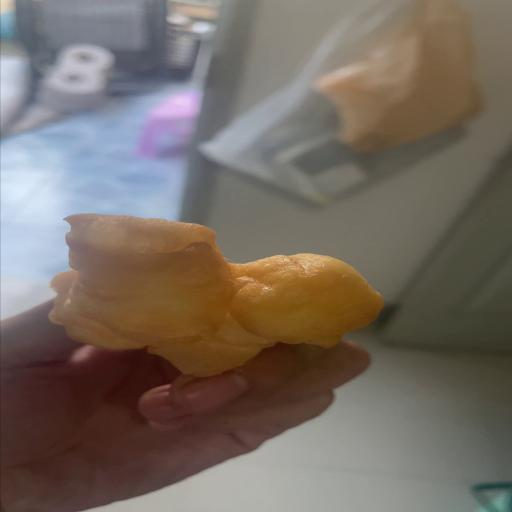street_golden_good: (50, 215, 383, 375)
